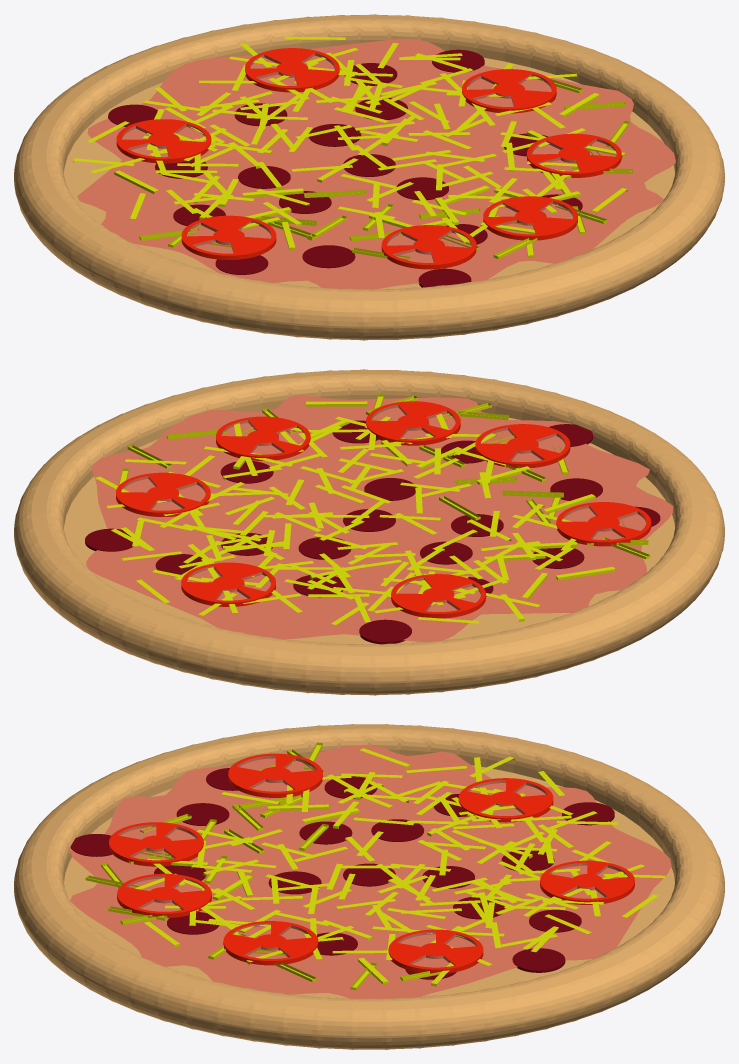
The model's file is pwstc.fbx.
The picture shows the model from 3 angles, top to bottom: view 1: azimuth 30°, elevation 25°; view 2: azimuth 150°, elevation 25°; view 3: azimuth 270°, elevation 25°; orthographic projection.
Parts seen in each view (by area): view 1: pwstc; view 2: pwstc; view 3: pwstc.
Boxes of the visible parts, x1,y1,x2,y2 form: pwstc: [14, 14, 724, 340]; pwstc: [14, 369, 724, 695]; pwstc: [14, 724, 724, 1049].
Size of the model in its own units: 232 by 17.89 by 232.
